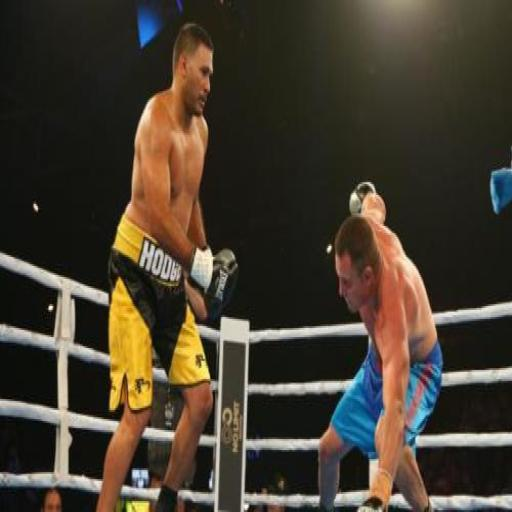boxing: (94, 20, 239, 508), (316, 179, 444, 510)
